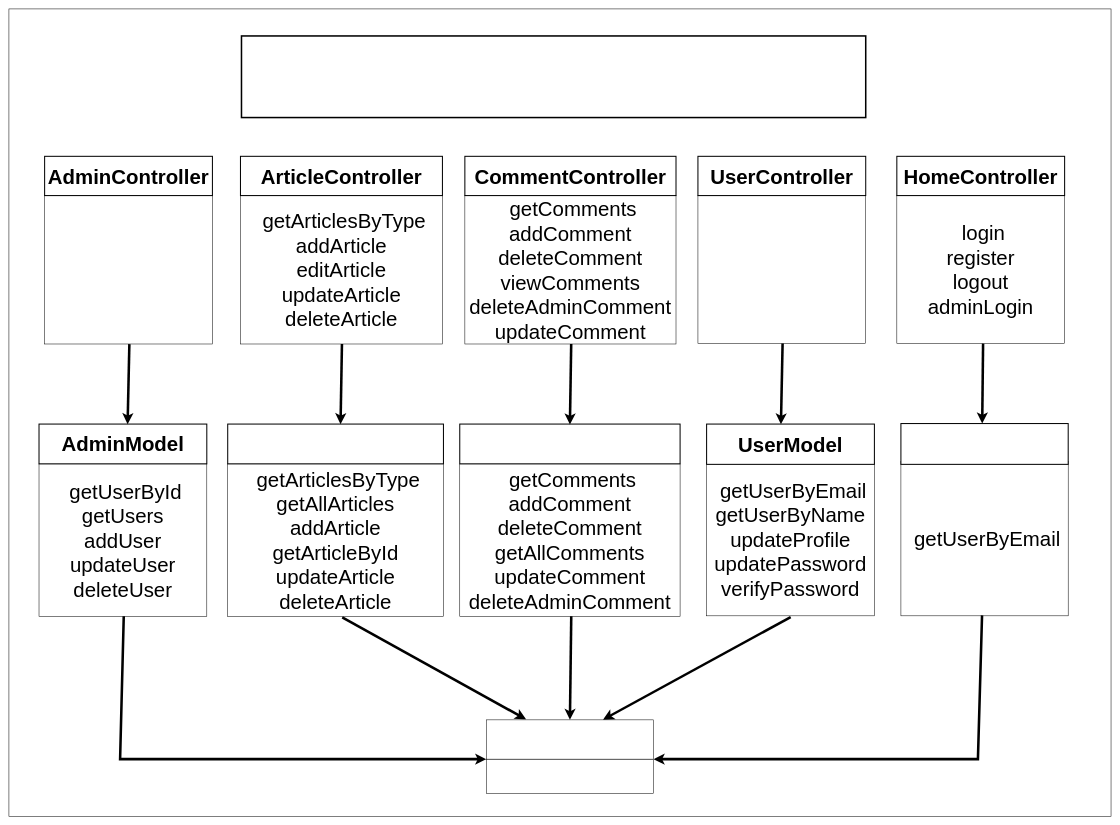
The diagram is 1120 pixels wide and 825 high, and some of its shapes have lost their labels. The centre of each missing label's shape, as x and y in pixels:
ArticleModel: [335,443]
CommentModel: [569,443]
dashboard adminDashboard addUser deleteUser editUser: [128,269]
Db: [570,739]
Diagramme des classes PHP Blog MVC - Rétrogaming: [553,76]
getConnection: [570,776]
HomeModel: [984,444]
showProfile updateProfile updatePassword: [781,269]
